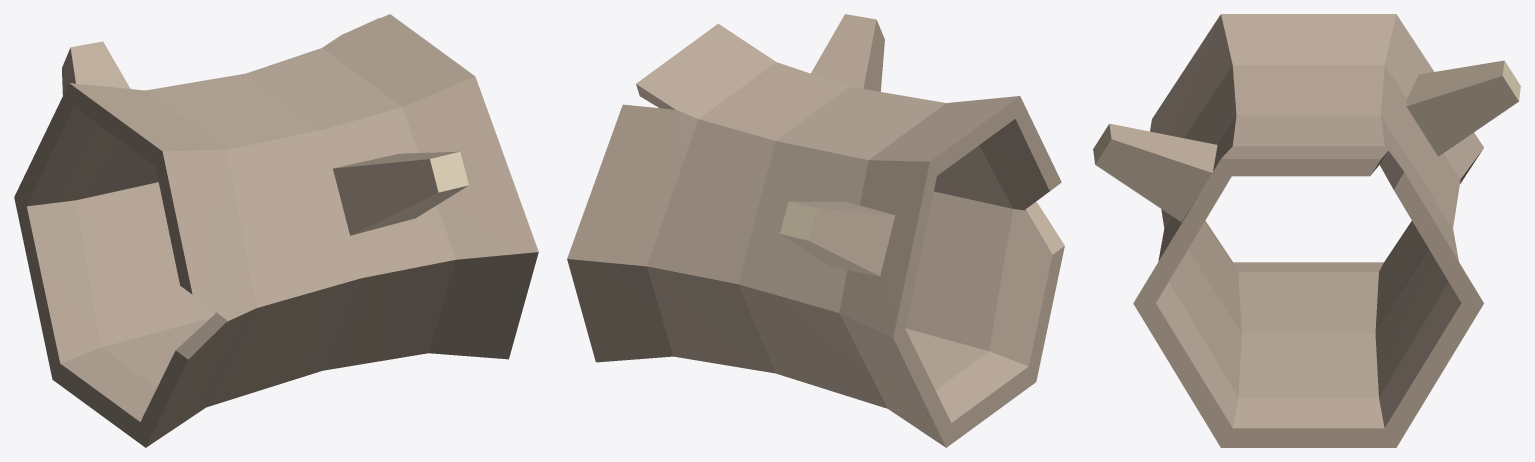
Rendered from Hilly_Prop_Hollow_Trunk.glb.
3 renders of one model, left to right at view 1: azimuth 30°, elevation 25°; view 2: azimuth 150°, elevation 25°; view 3: azimuth 270°, elevation 25°, orthographic. The views are drawn at different scales.
Parts seen in each view (by area): view 1: Hilly_Prop_Hollow_Trunk; view 2: Hilly_Prop_Hollow_Trunk; view 3: Hilly_Prop_Hollow_Trunk.
Part boxes in pixels (x1,y1,x2,y2): Hilly_Prop_Hollow_Trunk: (14,14,538,447); Hilly_Prop_Hollow_Trunk: (567,14,1064,447); Hilly_Prop_Hollow_Trunk: (1093,14,1520,447).
Bounding box in the file's own units: 0.9199 × 0.7081 × 0.9982.
